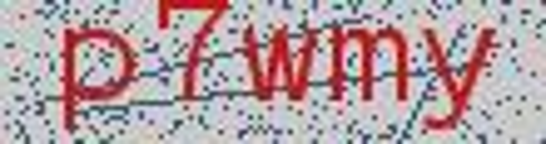7: (146, 1, 237, 112)
m: (326, 20, 411, 114)
p: (53, 18, 141, 133)
w: (239, 20, 323, 114)
y: (417, 24, 496, 133)
